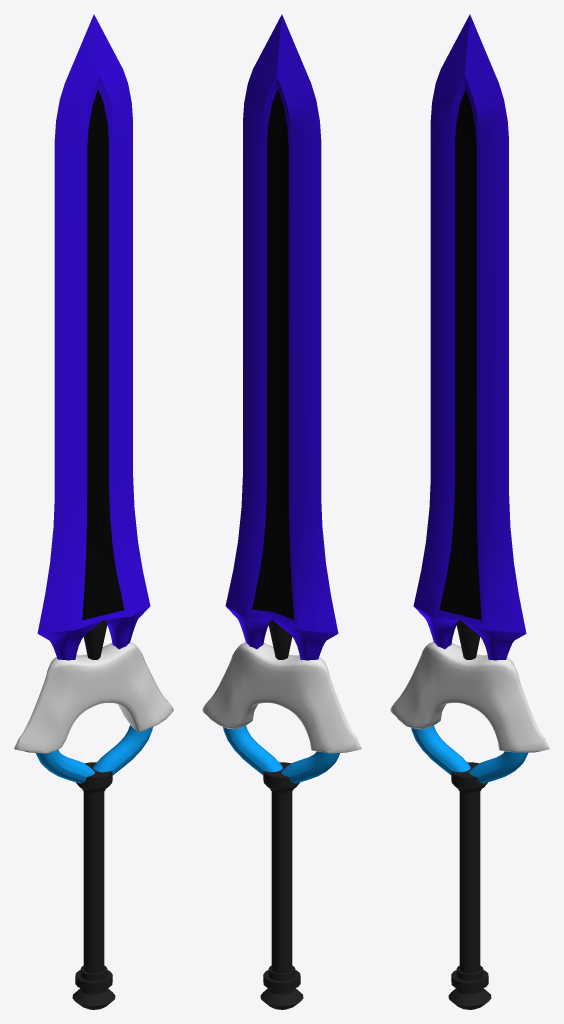
File: TankSwords_LOD_sys.fbx
3 renders of one model, left to right at view 1: azimuth 30°, elevation 25°; view 2: azimuth 150°, elevation 25°; view 3: azimuth 330°, elevation 25°, orthographic.
Visible parts, largest first — view 1: TankSword_LOD0; view 2: TankSword_LOD0; view 3: TankSword_LOD0.
Boxes of the visible parts, x1,y1,x2,y2 form: TankSword_LOD0: [14, 14, 173, 1009]; TankSword_LOD0: [202, 14, 361, 1009]; TankSword_LOD0: [390, 14, 549, 1009].
Size of what is drawn, in the model's own units: 76.43 by 455 by 18.01.
